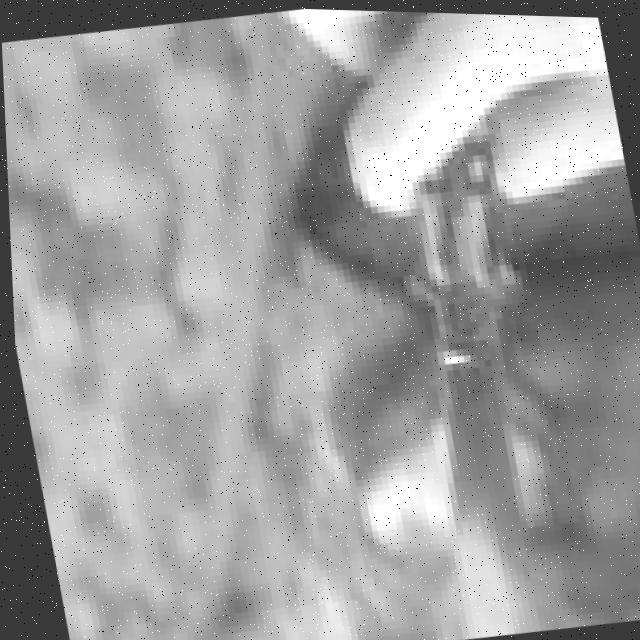knife: (342, 128, 580, 640)
